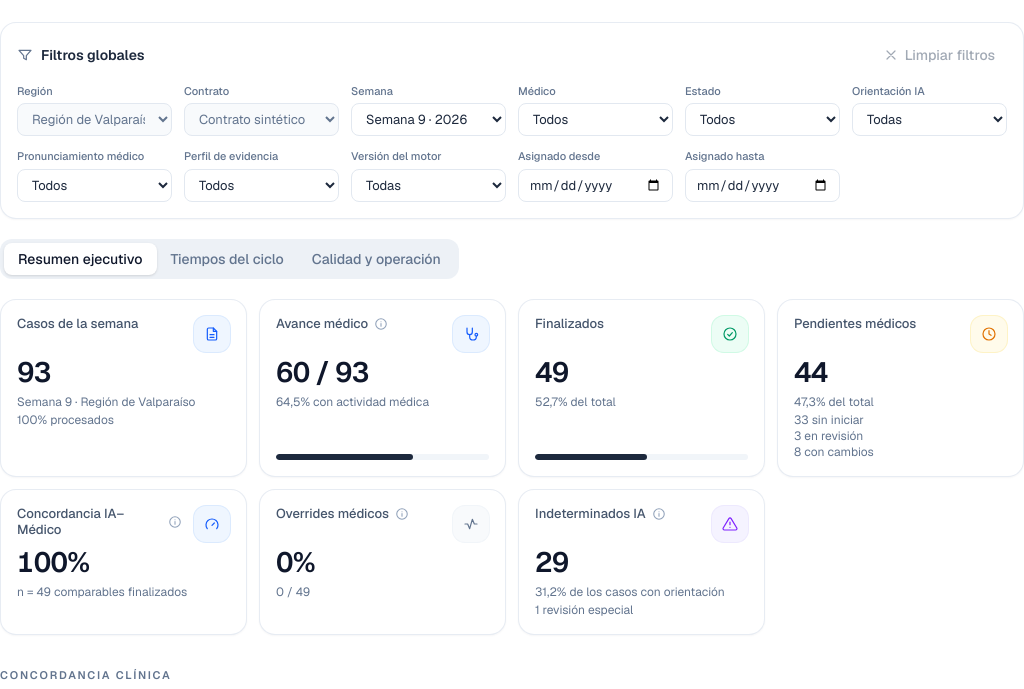
Test: Dashboard ejecutivo · tiempos del ciclo › J · tiempo técnico de firma: 0,7 s, con 0,68 s en el detalle
The width and height of the screenshot is (1024, 689).
Expected: the element "Finalizados" is shown, top-left (518, 299), bottom-right (765, 477)
Click the tab "Tiempos del ciclo": (227, 259) top-left (156, 243), bottom-right (298, 275)
(page scrolled)
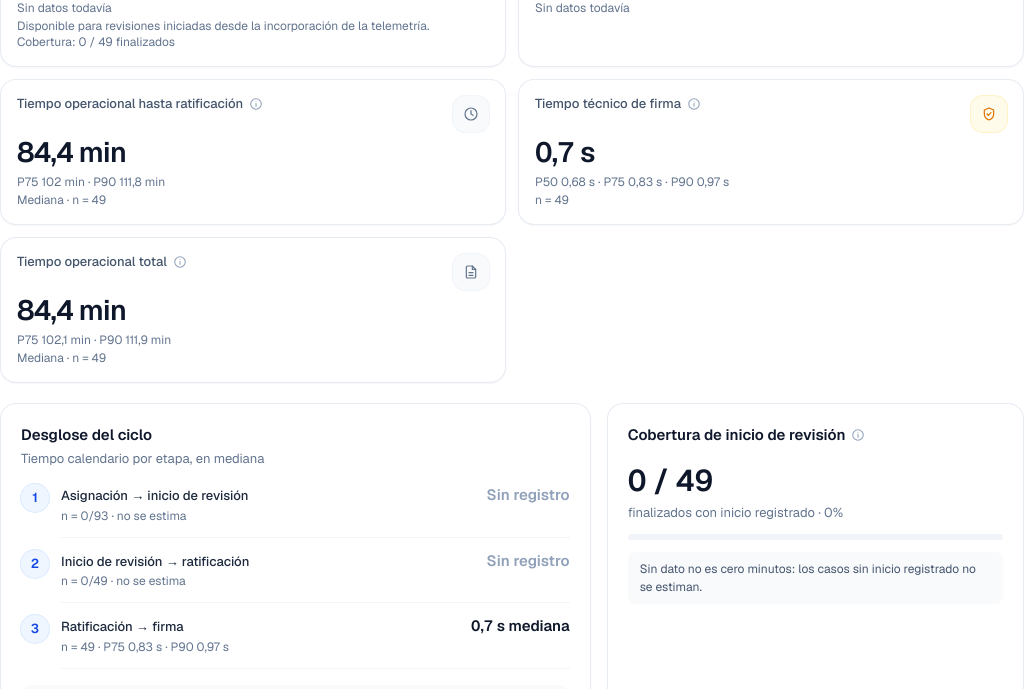
Expected: the text "0,7 s" is shown, top-left (535, 134), bottom-right (595, 170)
Expected: the text "P50 0,68 s · P75 0,83 s · P90 0,97 s" is shown, top-left (535, 174), bottom-right (729, 190)
Expected: the text "n = 49" is shown, top-left (535, 192), bottom-right (569, 208)
